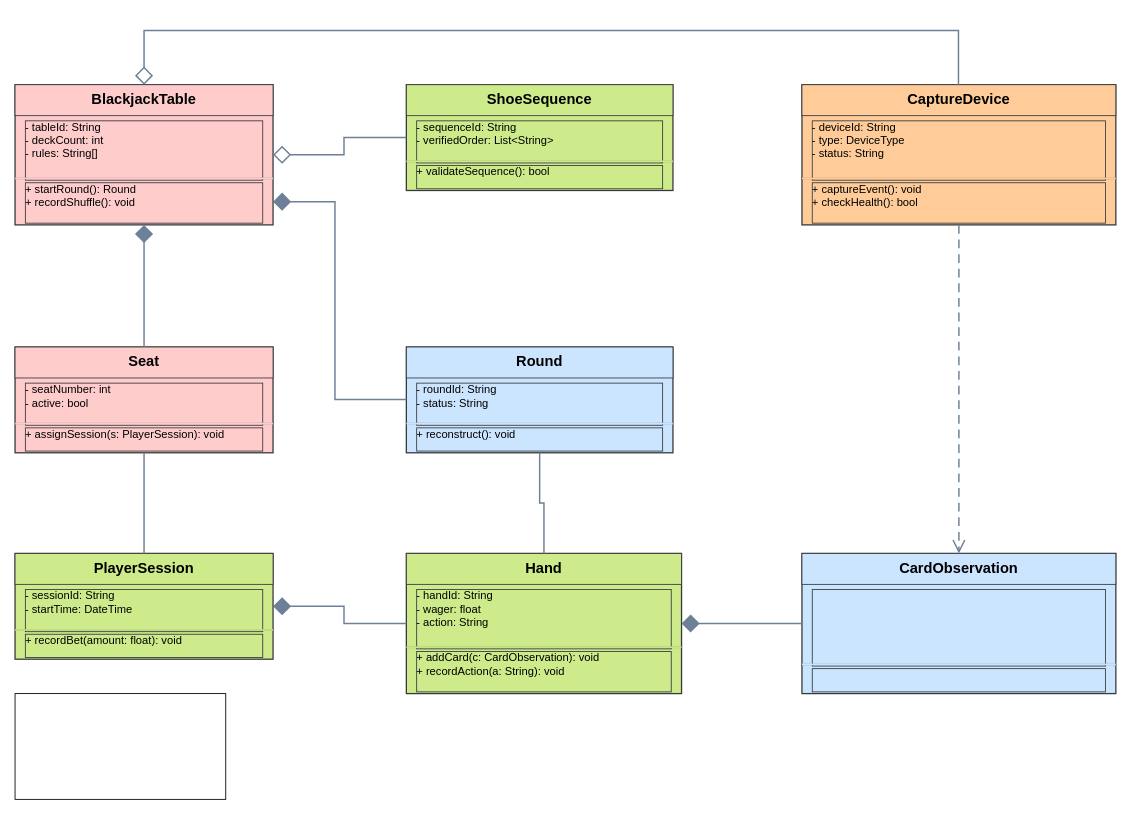
The diagram is 1132 pixels wide and 815 high, and some of its shapes have lost their labels. Each missing label, with the box of its shape:
+ isPublicAt(t: DateTime): bool: (811, 668, 1106, 692)
- rank: String - suit: String - visibleAt: DateTime - confidence: float: (811, 589, 1106, 666)
Key: ◆ - Composition ◇ - Aggregation ——— - Association --- - Dependency: (14, 693, 226, 799)
